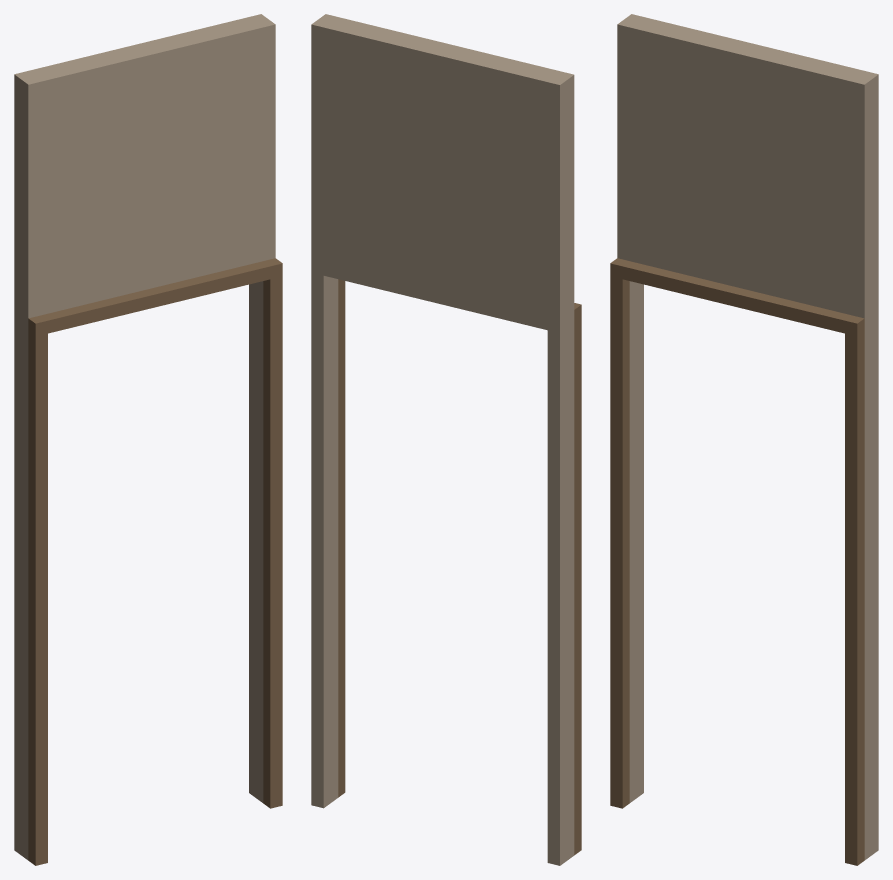
File: Mesh_DoorHole_02.fbx
3 views of the same model, side by side, from view 1: azimuth 30°, elevation 25°; view 2: azimuth 150°, elevation 25°; view 3: azimuth 330°, elevation 25° (orthographic).
Visible parts, largest first — view 1: Mesh_DoorHole_02; view 2: Mesh_DoorHole_02; view 3: Mesh_DoorHole_02.
Part boxes in pixels (x1,y1,x2,y2): Mesh_DoorHole_02: [14, 14, 282, 865]; Mesh_DoorHole_02: [311, 14, 581, 865]; Mesh_DoorHole_02: [610, 14, 878, 865].
Size of the model in its own units: 1 by 3 by 0.15.
